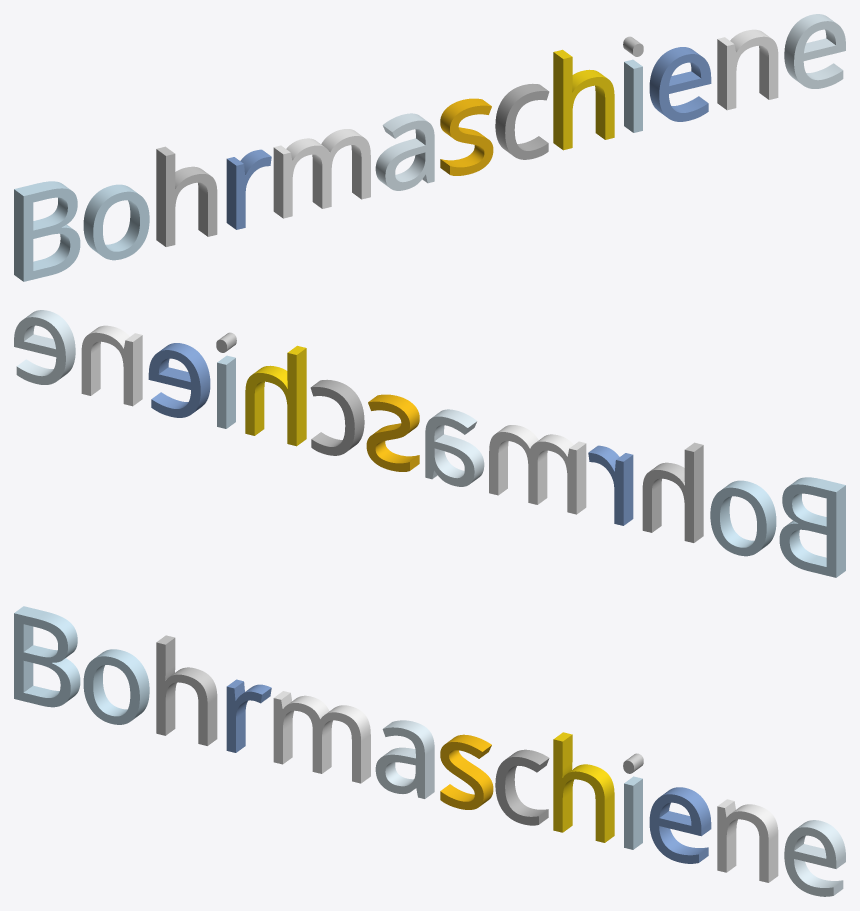
File: Part Studio 1.gltf
3 renders of one model, top to bottom at view 1: azimuth 30°, elevation 25°; view 2: azimuth 150°, elevation 25°; view 3: azimuth 330°, elevation 25°, orthographic.
Visible parts, largest first — view 1: Part 1, Part 5, Part 9, Part 3, Part 6, Part 12, Part 14, Part 2, Part 13, Part 7, Part 8, Part 4 (+1 smaller); view 2: Part 1, Part 5, Part 9, Part 3, Part 6, Part 12, Part 14, Part 2, Part 13, Part 7, Part 8, Part 4 (+1 smaller); view 3: Part 5, Part 1, Part 9, Part 3, Part 12, Part 14, Part 6, Part 13, Part 2, Part 7, Part 8, Part 4 (+1 smaller).
Part boxes in pixels (x1,y1,x2,y2): Part 1: [14, 181, 80, 281]; Part 5: [273, 129, 370, 218]; Part 9: [553, 49, 614, 150]; Part 3: [156, 146, 217, 246]; Part 6: [375, 113, 434, 190]; Part 12: [649, 47, 711, 121]; Part 14: [784, 14, 845, 88]; Part 2: [83, 184, 149, 260]; Part 13: [717, 29, 778, 110]; Part 7: [440, 98, 493, 175]; Part 8: [495, 83, 549, 159]; Part 4: [226, 149, 271, 229]; Part 1: [779, 477, 845, 577]; Part 5: [489, 425, 586, 514]; Part 9: [245, 345, 306, 446]; Part 3: [642, 442, 703, 542]; Part 6: [425, 409, 484, 486]; Part 12: [148, 343, 210, 417]; Part 14: [14, 310, 75, 384]; Part 2: [710, 480, 776, 556]; Part 13: [81, 325, 142, 406]; Part 7: [366, 394, 419, 471]; Part 8: [310, 379, 364, 455]; Part 4: [588, 445, 633, 525]; Part 5: [273, 691, 370, 783]; Part 1: [14, 606, 80, 707]; Part 9: [553, 732, 614, 842]; Part 3: [156, 635, 217, 745]; Part 12: [649, 787, 711, 863]; Part 14: [784, 820, 845, 896]; Part 6: [375, 720, 434, 798]; Part 13: [717, 799, 778, 882]; Part 2: [83, 649, 149, 724]; Part 7: [440, 734, 493, 809]; Part 8: [495, 749, 549, 825]; Part 4: [226, 679, 271, 752].
Size of the model in its own units: 1.24 by 0.1334 by 0.0254.
